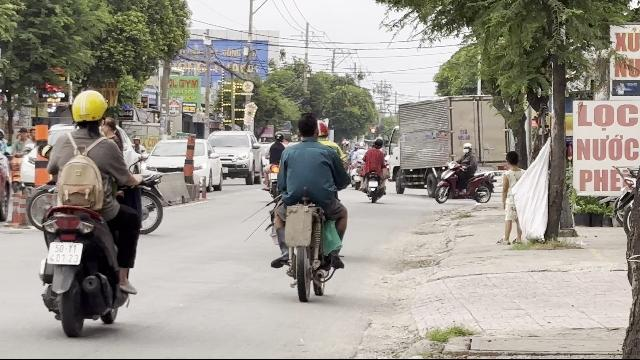helmet: (68, 90, 108, 131), (316, 118, 328, 138)
licenseplate: (47, 242, 81, 264)
motorcyclist: (29, 87, 144, 334), (264, 111, 352, 300)
nohelmet: (295, 115, 319, 140)
